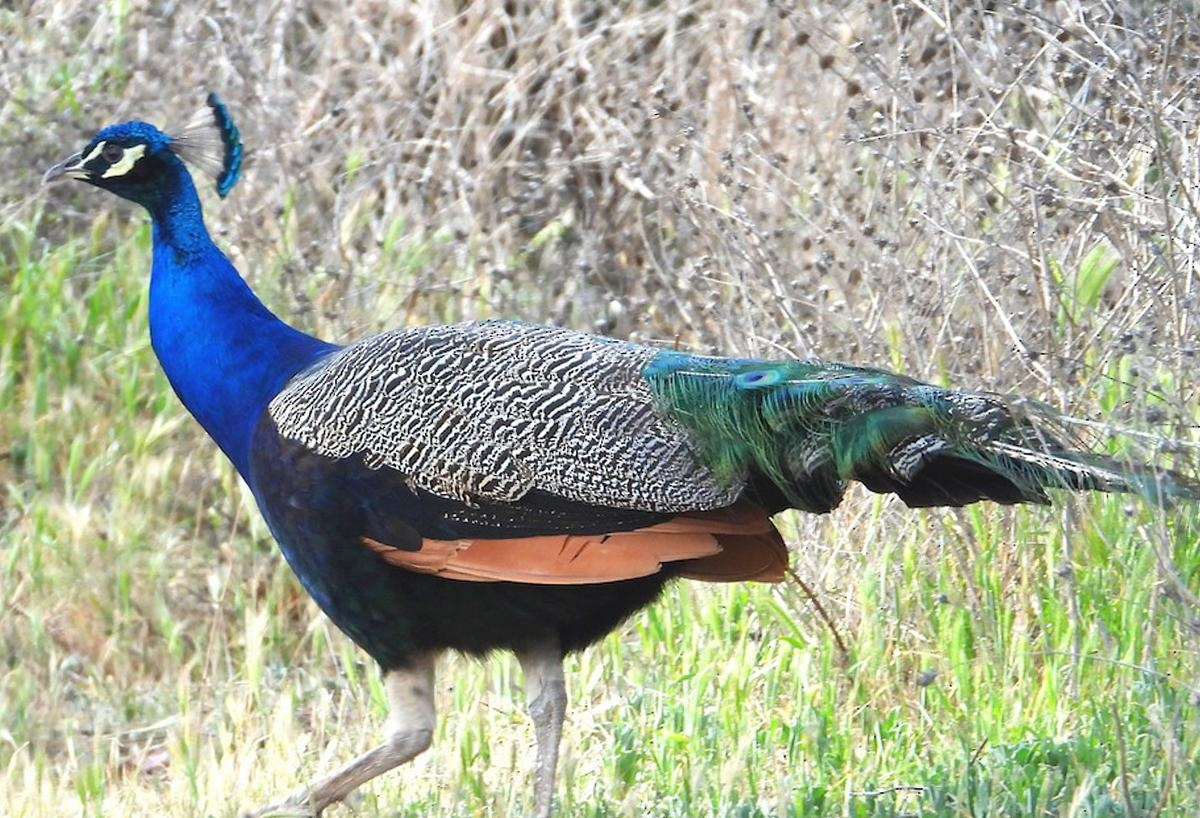peacock: (30, 90, 980, 818)
